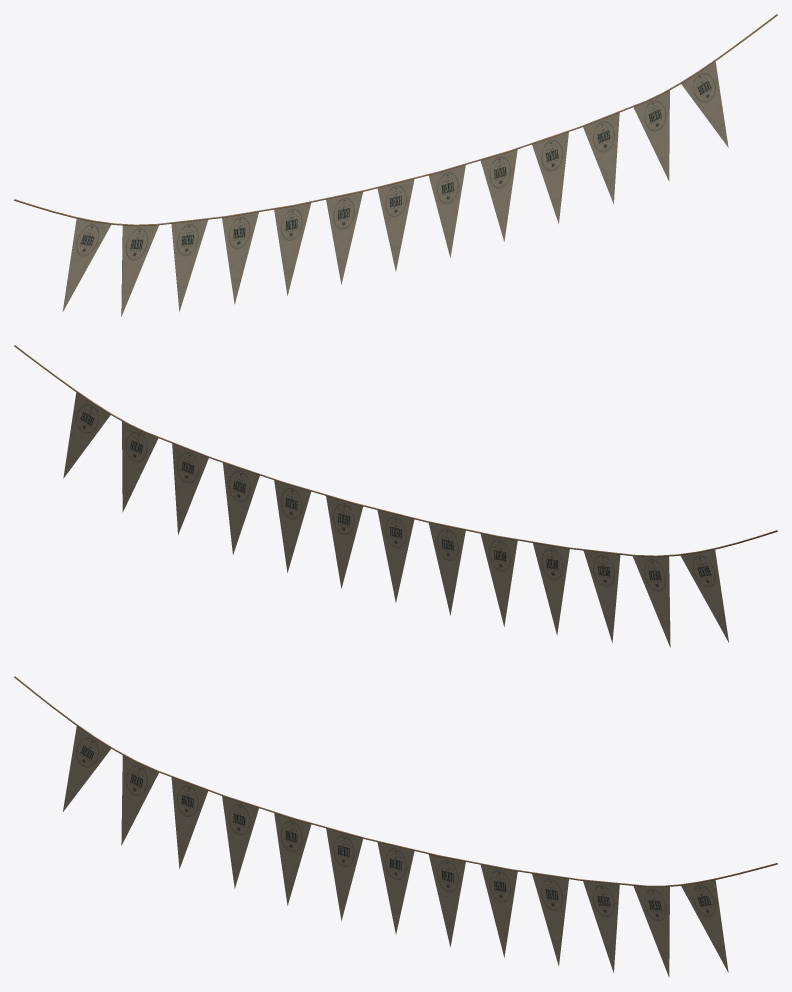
Rendered from Prop_Flag_Line_x6.fbx.
3 views of the same model, one above another, from view 1: azimuth 30°, elevation 25°; view 2: azimuth 150°, elevation 25°; view 3: azimuth 330°, elevation 25° (orthographic).
Visible parts, largest first — view 1: Prop_Flag_Line_x6; view 2: Prop_Flag_Line_x6; view 3: Prop_Flag_Line_x6.
Part boxes in pixels (x1,y1,x2,y2): Prop_Flag_Line_x6: [14, 14, 777, 316]; Prop_Flag_Line_x6: [14, 345, 777, 647]; Prop_Flag_Line_x6: [14, 676, 777, 977].
Bounding box in the file's own units: 267 × 55.32 × 0.459.
